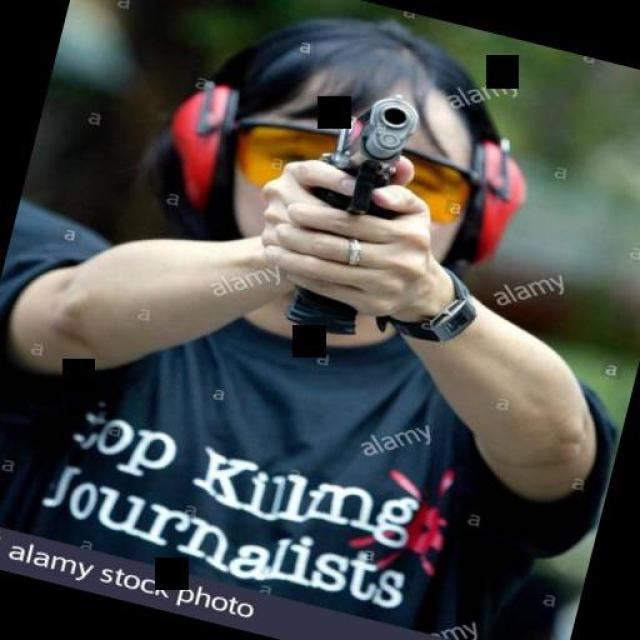gun: (251, 75, 459, 355)
